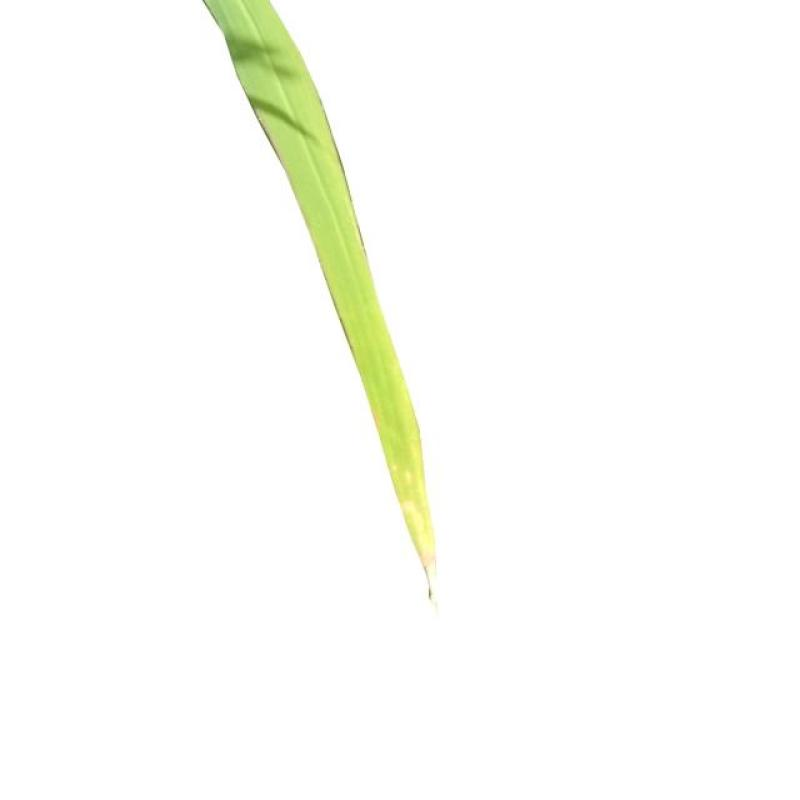Rice Tungro: (302, 254, 477, 410), (342, 418, 488, 588), (201, 2, 365, 127), (246, 135, 395, 241)
